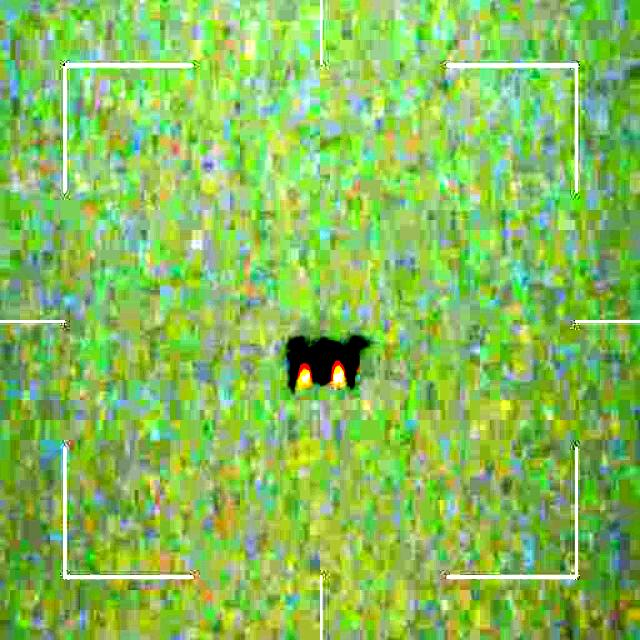bird: (285, 331, 370, 392)
